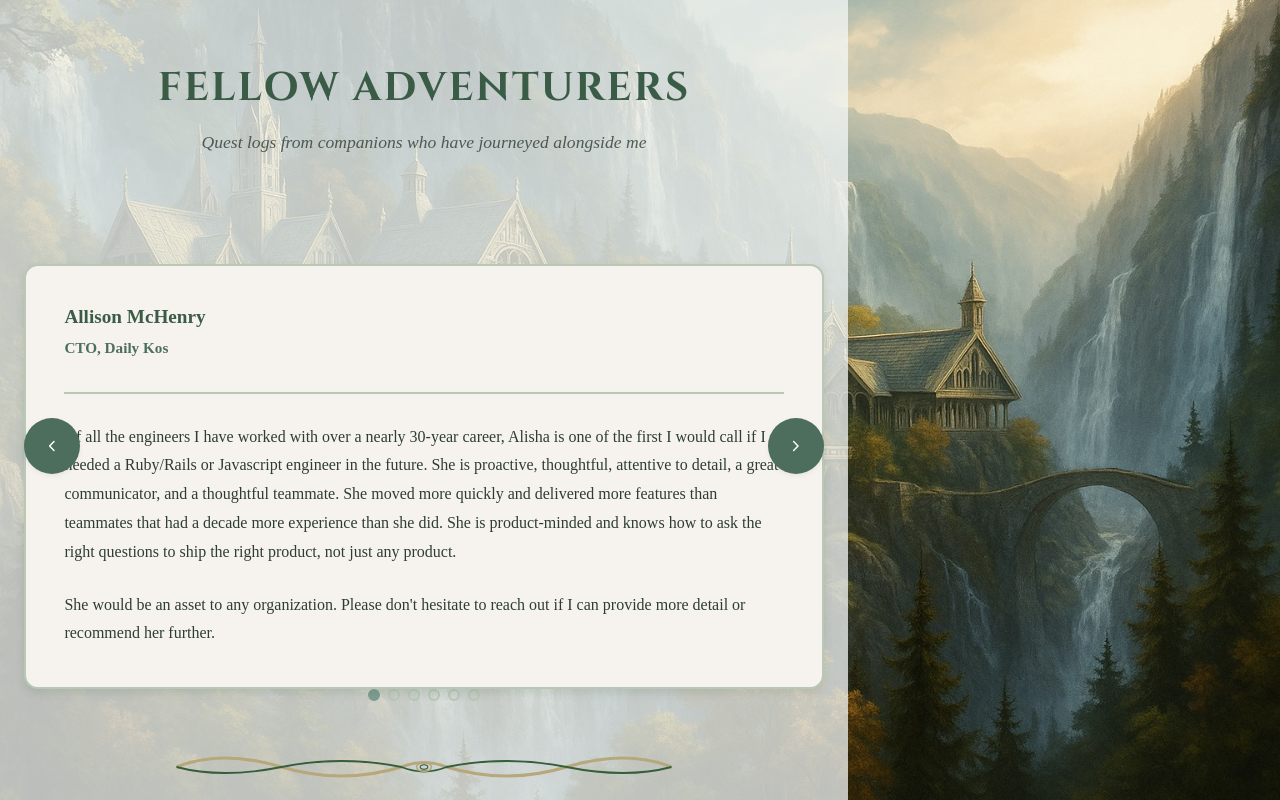
Test: Recommendations Component › navigates to previous recommendation
Note: Go to last recommendation (wraps around)
Click the button named "Previous recommendation".
click(52, 446)  # box [24,418,80,474]
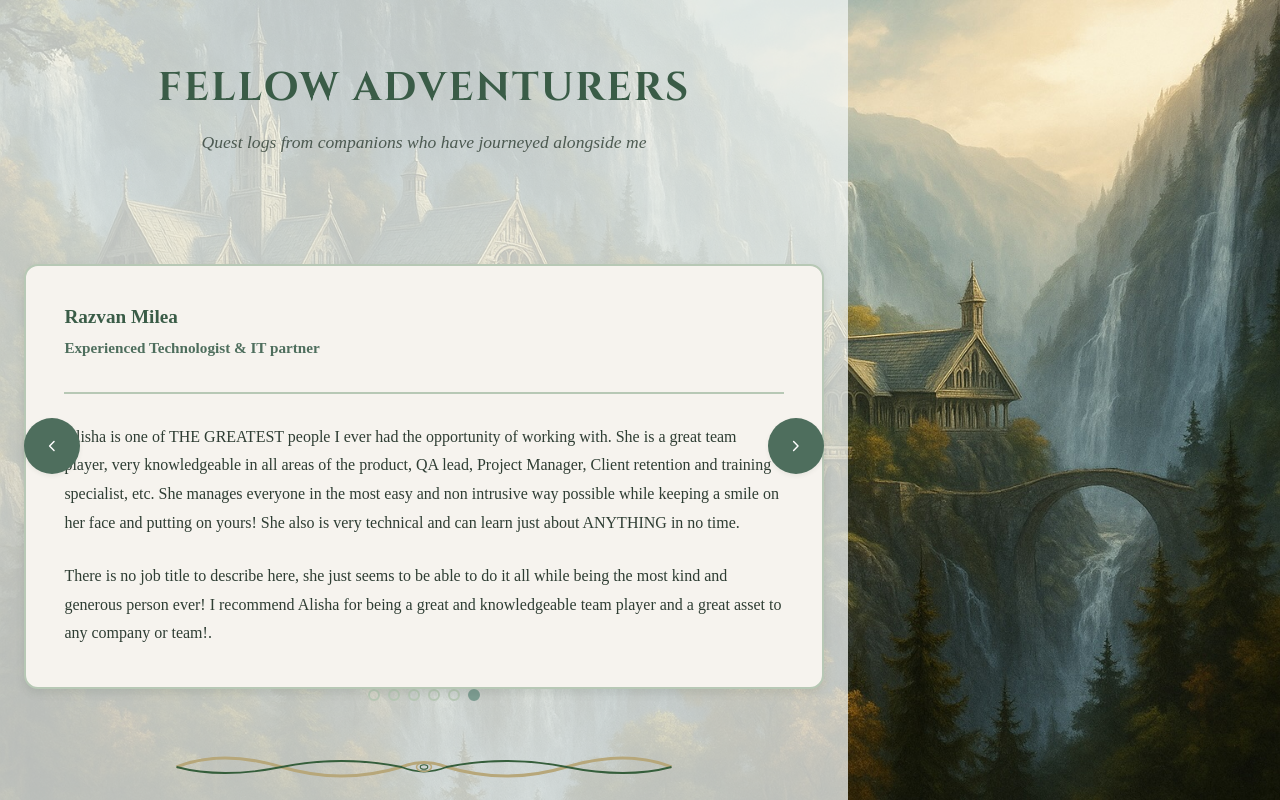
Expected: the heading "Razvan Milea" is shown, [64,306,178,326]
Expected: the text "Experienced Technologist & IT partner" is shown, [64,339,320,356]
